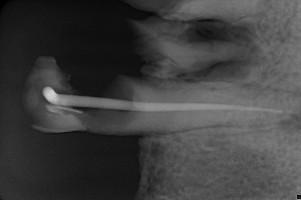Furcation Involvement: (177, 19, 266, 82)
